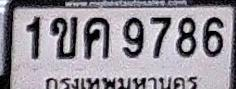1: (26, 16, 40, 59)
6: (202, 16, 224, 57)
7: (150, 16, 172, 58)
8: (176, 16, 196, 57)
9: (123, 16, 144, 58)
A02: (50, 16, 78, 59)
A04: (84, 16, 110, 58)
BKK: (44, 71, 203, 89)
